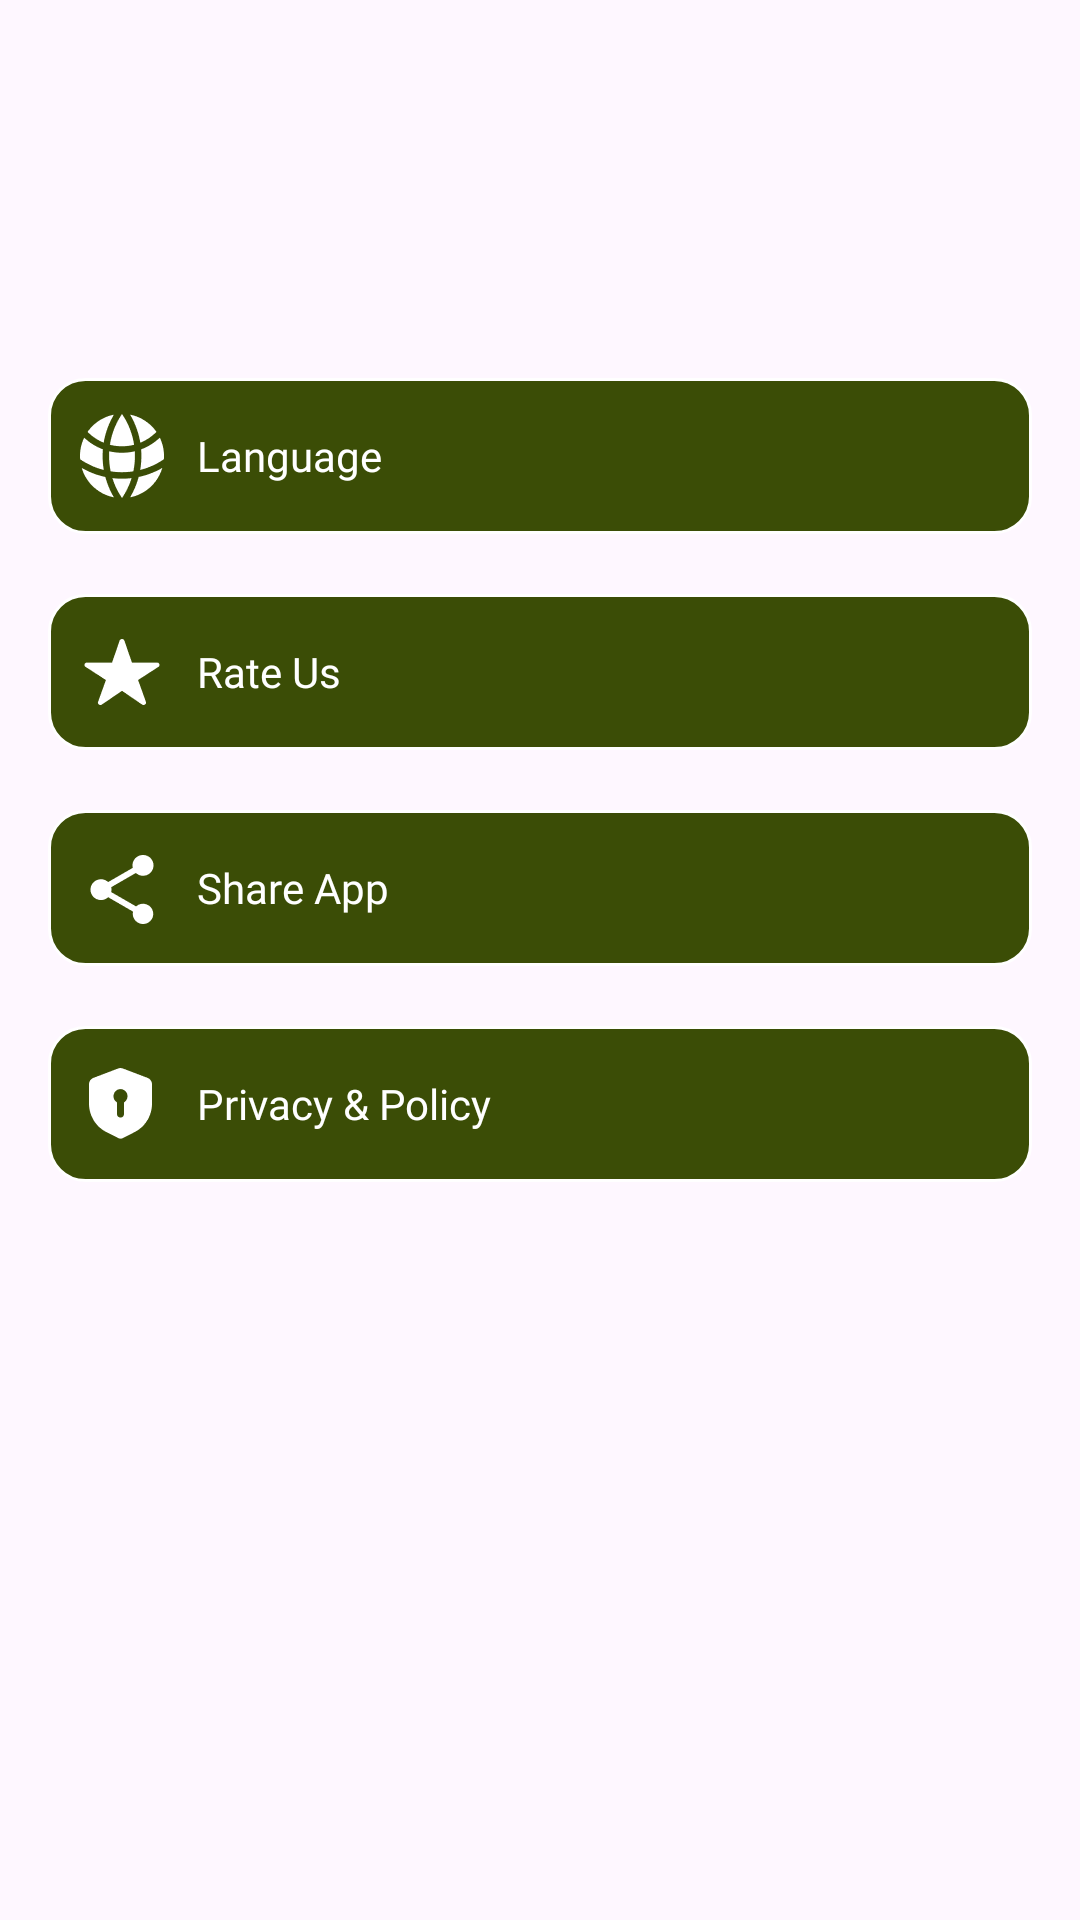

Icons on this 1080 × 1920 Android screen, each with its box as bbox(x1, y1, x2, y2):
lang set: bbox(80, 414, 164, 498)
policy set: bbox(89, 1068, 152, 1139)
rate set: bbox(84, 639, 160, 705)
share set: bbox(90, 855, 154, 924)
